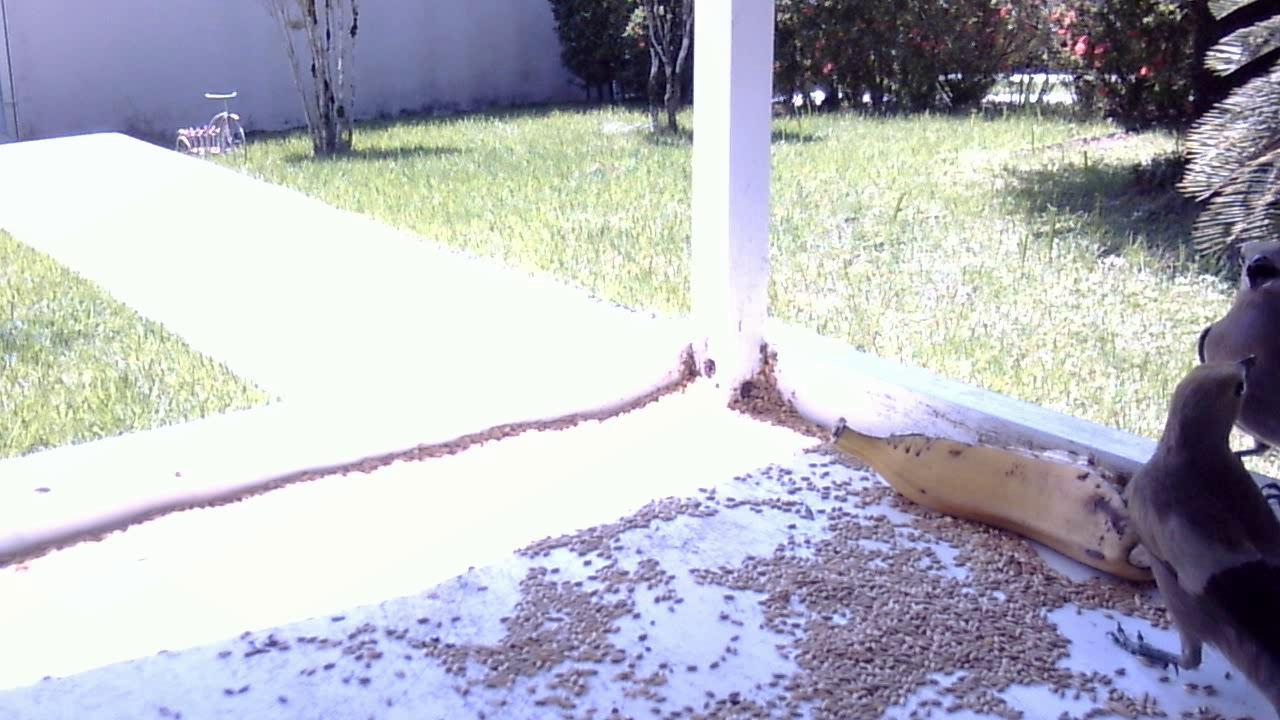sanhaco_do_coqueiro: (1067, 357, 1276, 705), (1179, 233, 1280, 464)
